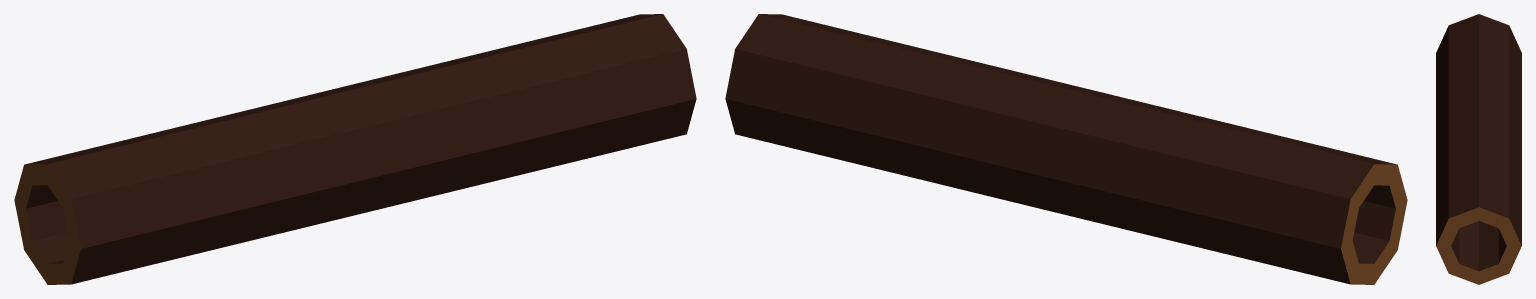
Rendered from Log_Hollow_02.fbx.
3 renders of one model, left to right at view 1: azimuth 30°, elevation 25°; view 2: azimuth 150°, elevation 25°; view 3: azimuth 270°, elevation 25°, orthographic. The views are drawn at different scales.
Visible parts, largest first — view 1: Log_Hollow_02_Mesh; view 2: Log_Hollow_02_Mesh; view 3: Log_Hollow_02_Mesh.
Boxes of the visible parts, x1=… form: Log_Hollow_02_Mesh: x1=14, y1=14, x2=696, y2=284; Log_Hollow_02_Mesh: x1=725, y1=14, x2=1407, y2=284; Log_Hollow_02_Mesh: x1=1436, y1=14, x2=1521, y2=284.
Bounding box in the file's own units: 3.2 × 0.6 × 0.6.
Materials: 1 (1 with a texture image).
